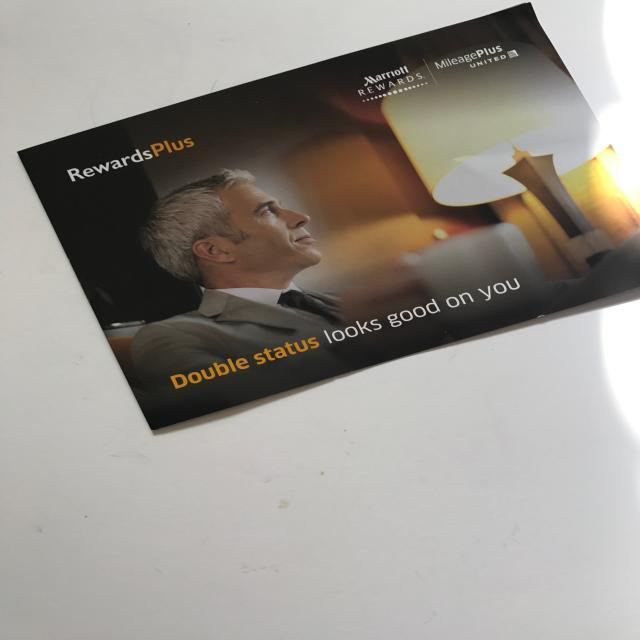paper: (12, 1, 640, 432)
